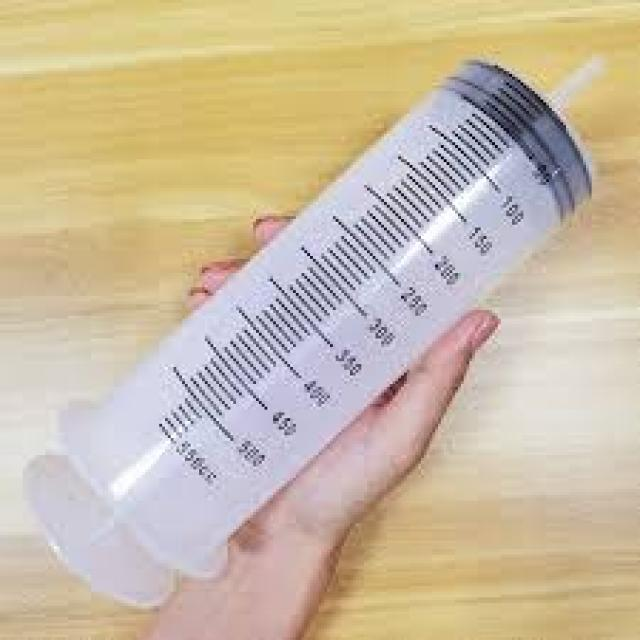syringe: (60, 40, 615, 418)
